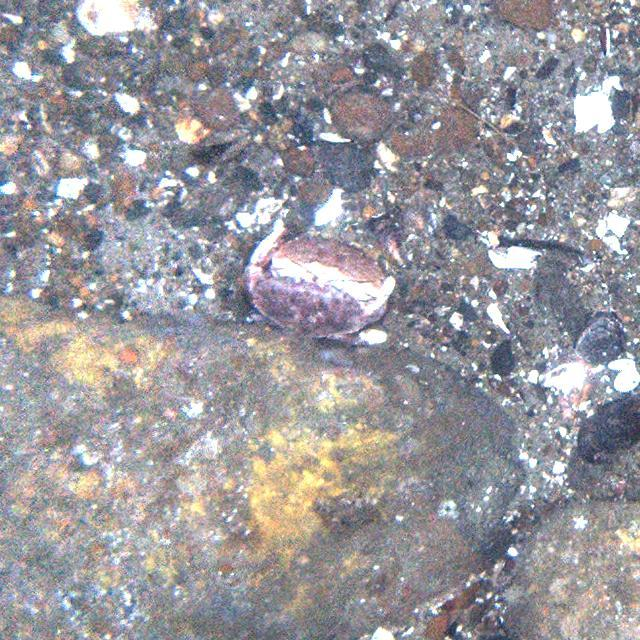crab: (247, 226, 406, 349)
